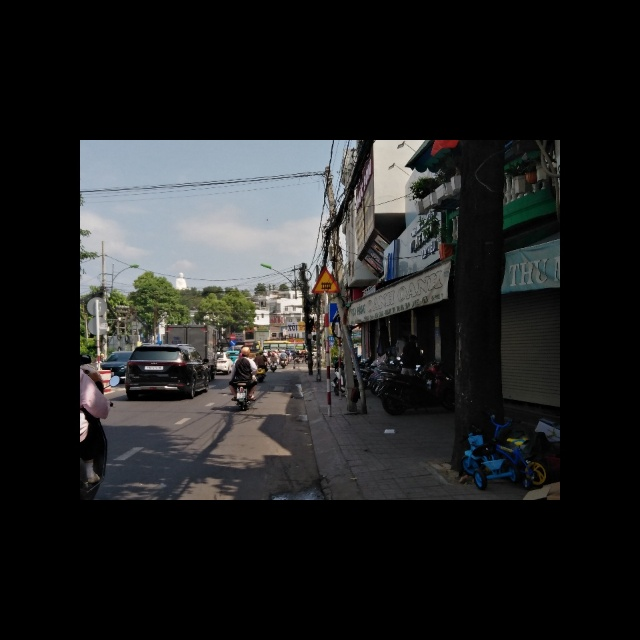Giao nhau với đường sắt có rào chắn: (311, 266, 341, 294)
